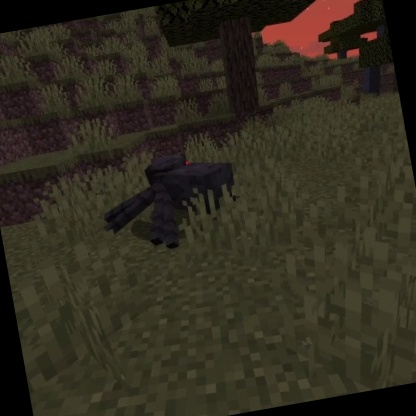spider: (91, 138, 248, 263)
